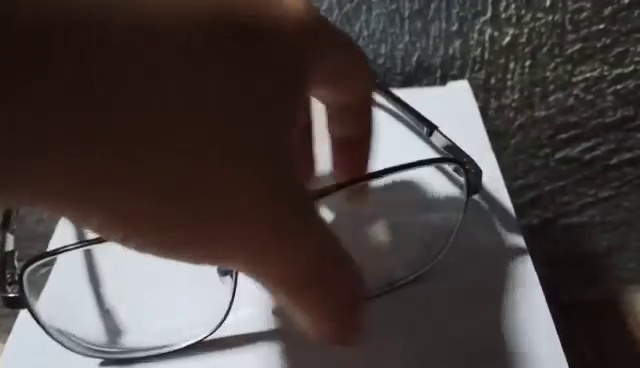glasses: (1, 41, 488, 368)
hand: (28, 8, 373, 341)
